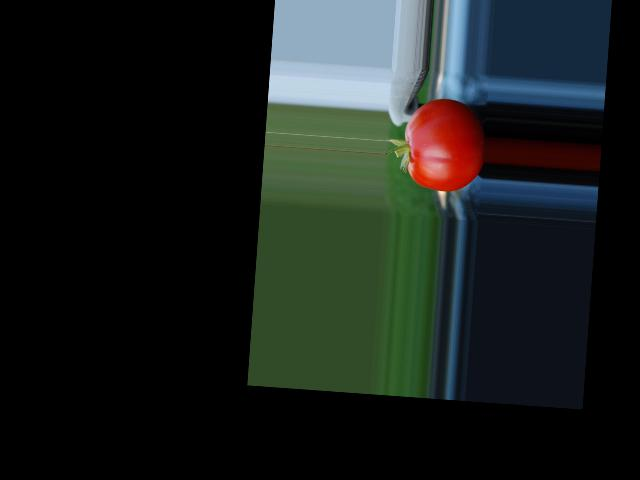tomato: (401, 96, 488, 194)
